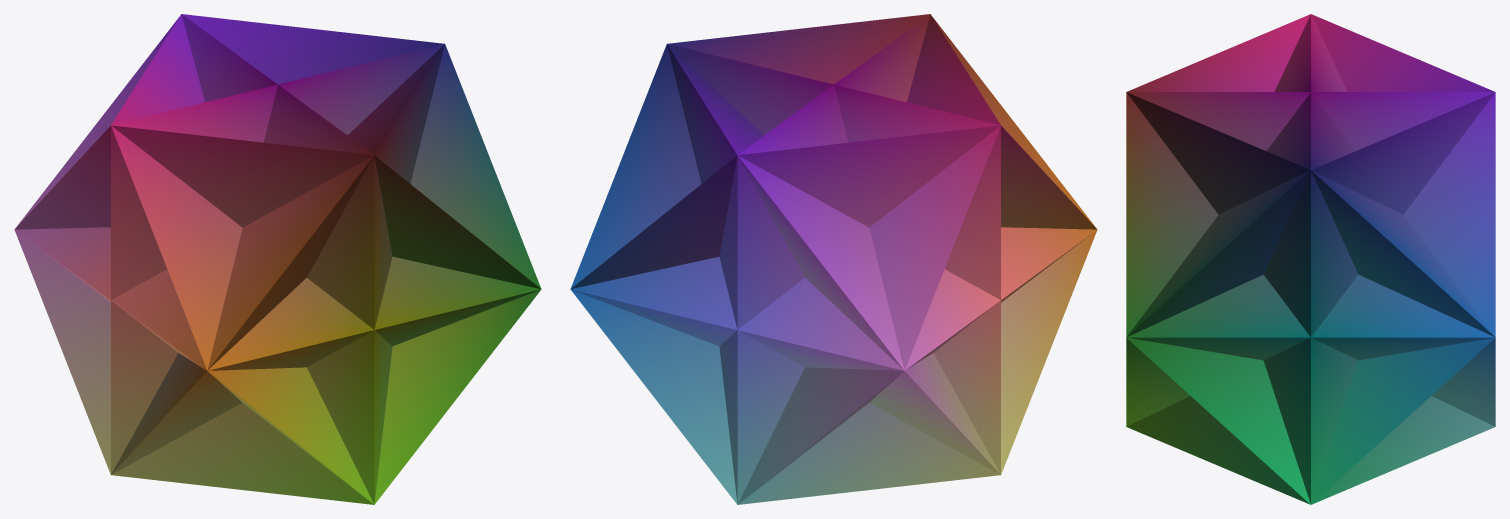
File: zeometry-polyhedra-carved-cube_v1.glb
3 views of the same model, side by side, from view 1: azimuth 30°, elevation 25°; view 2: azimuth 150°, elevation 25°; view 3: azimuth 270°, elevation 25° (orthographic). The views are drawn at different scales.
Visible parts, largest first — view 1: Carved Cube; view 2: Carved Cube; view 3: Carved Cube.
Boxes of the visible parts, box(x1,y1,x2,y2) form: Carved Cube: box(14, 14, 541, 504); Carved Cube: box(570, 14, 1097, 504); Carved Cube: box(1126, 14, 1495, 504).
Bounding box in the file's own units: 0.5 × 0.5 × 0.5.
